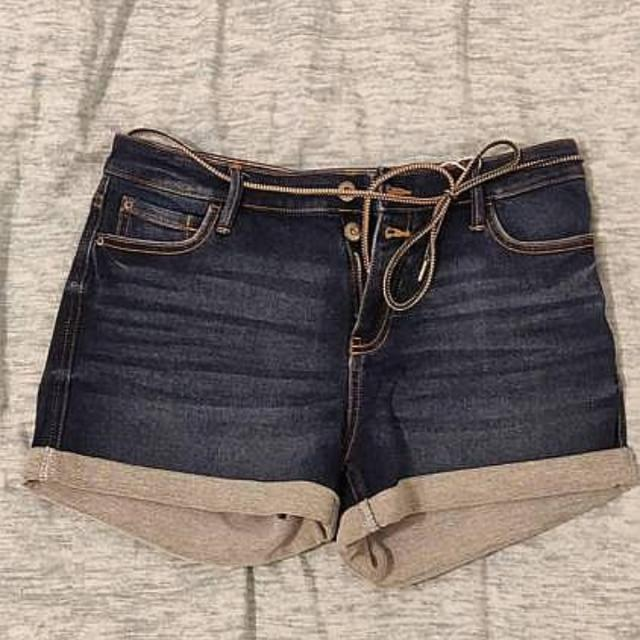SHORT: (14, 122, 640, 589)
